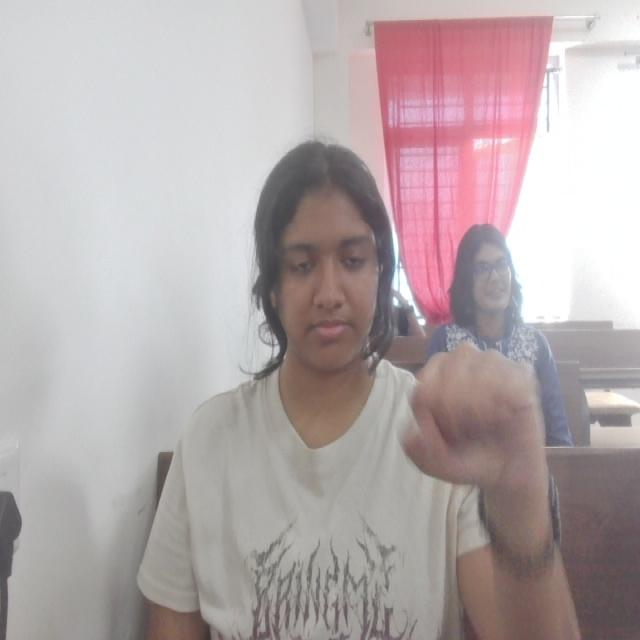yes: (398, 343, 554, 478)
